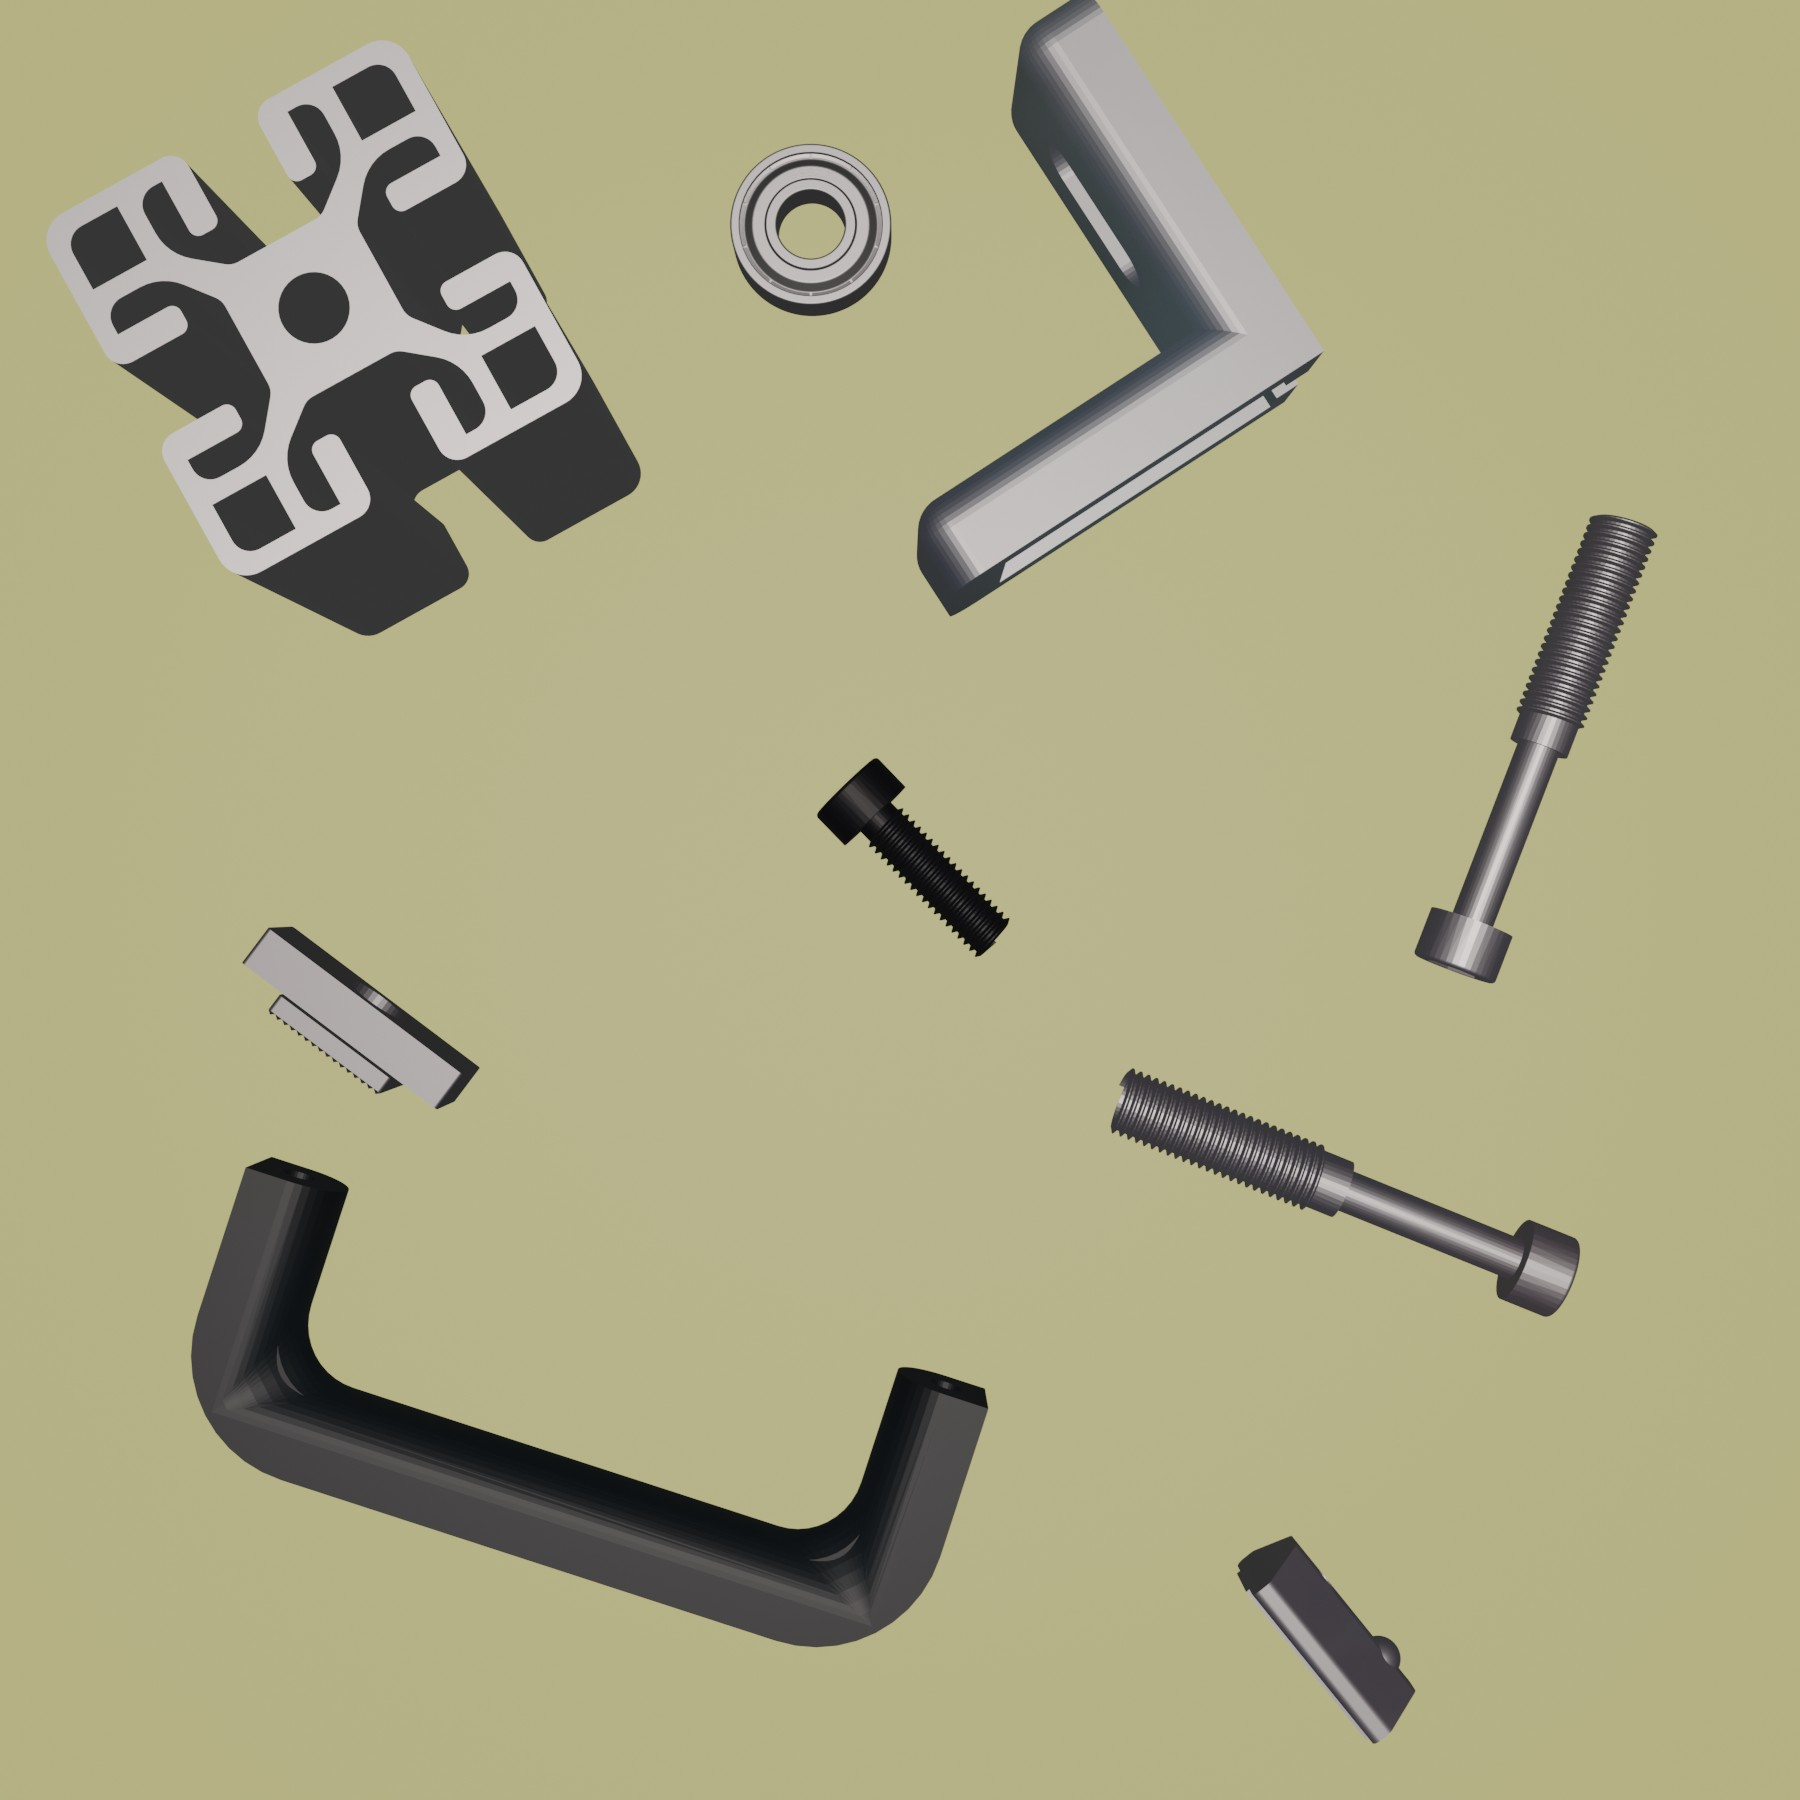Aluminium Extension: (46, 38, 643, 638)
Ball Bearing: (727, 138, 893, 320)
Multiwinkel: (913, 2, 1325, 621)
Pull Handle: (186, 1154, 991, 1650)
Shoulder Socket Head Cap Screw: (1108, 1065, 1581, 1319), (1413, 511, 1658, 987)
Socket Head Cap Screw: (814, 755, 1012, 961)
T Nut Square: (241, 921, 483, 1114)
T Spring Nut: (1233, 1530, 1418, 1749)
